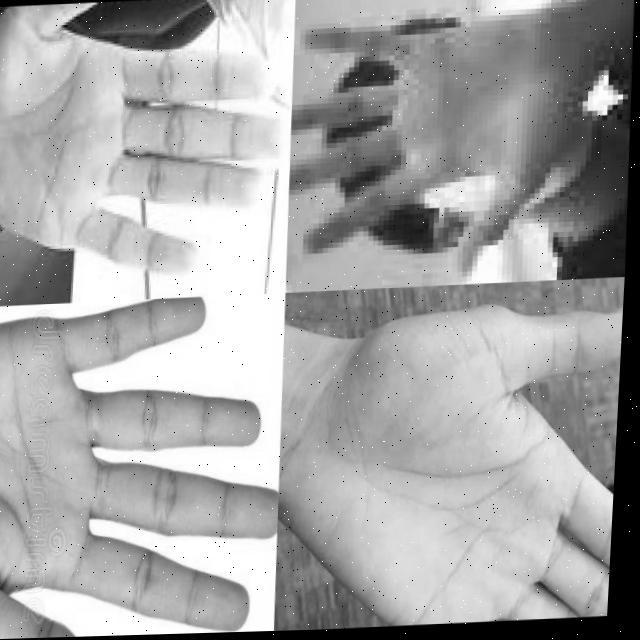no-gloves: (304, 296, 627, 631), (0, 293, 294, 640), (283, 3, 586, 294), (0, 0, 299, 287)
